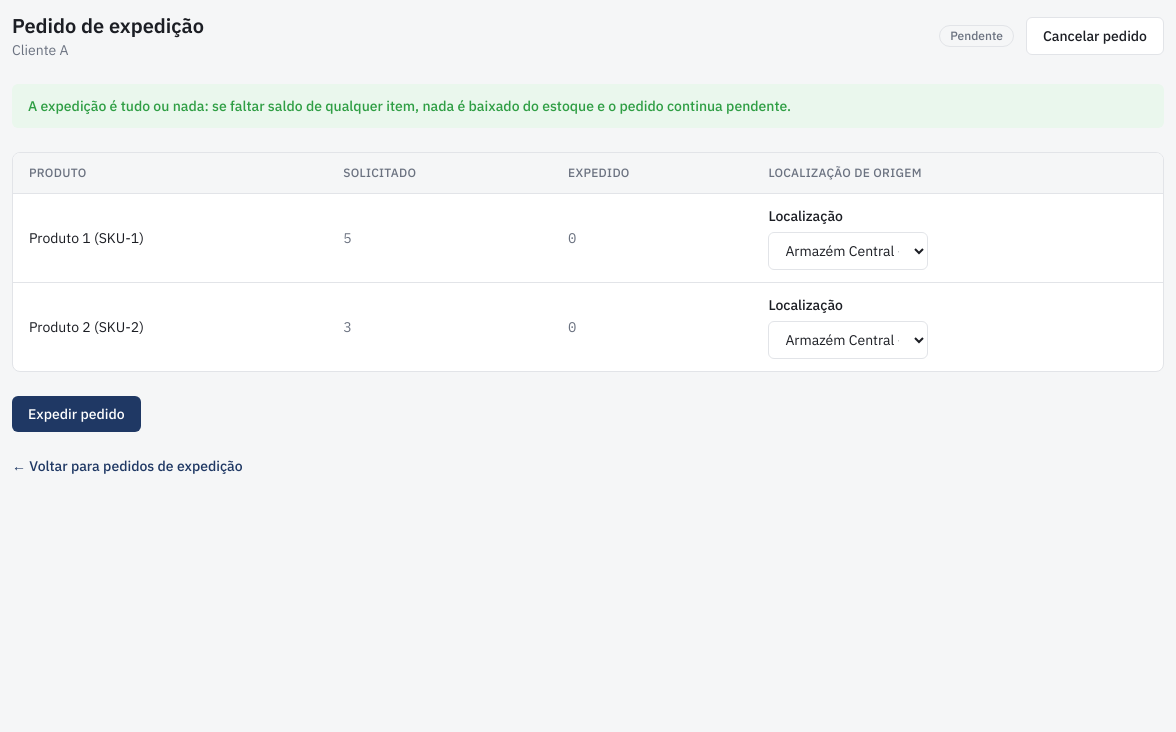
Scenario: PedidoExpedicaoDetailPage › mostra o erro da RN06 (saldo insuficiente) sem marcar sucesso
Expected: the text "Cliente A" is shown, x1=12 y1=41 x2=68 y2=59
Click the button "Expedir pedido": (76, 414) x1=12 y1=396 x2=141 y2=432
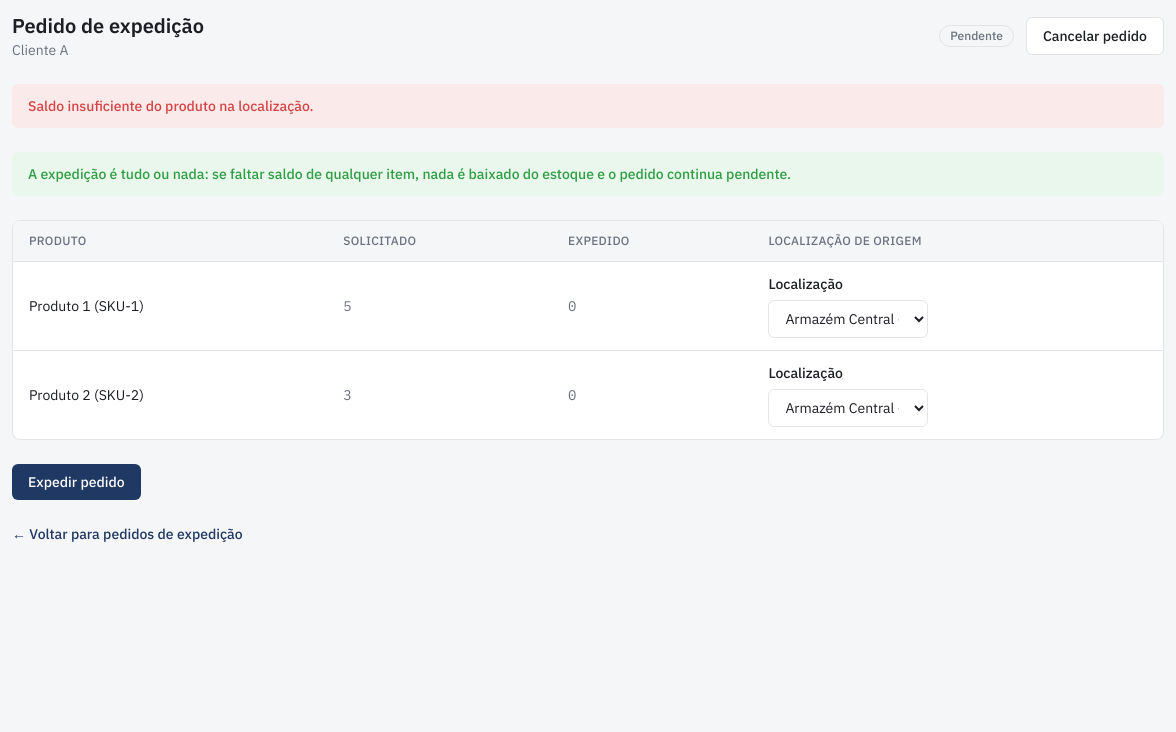
Now the text "Saldo insuficiente do produto na localização." is shown, box x1=12 y1=84 x2=1164 y2=128
